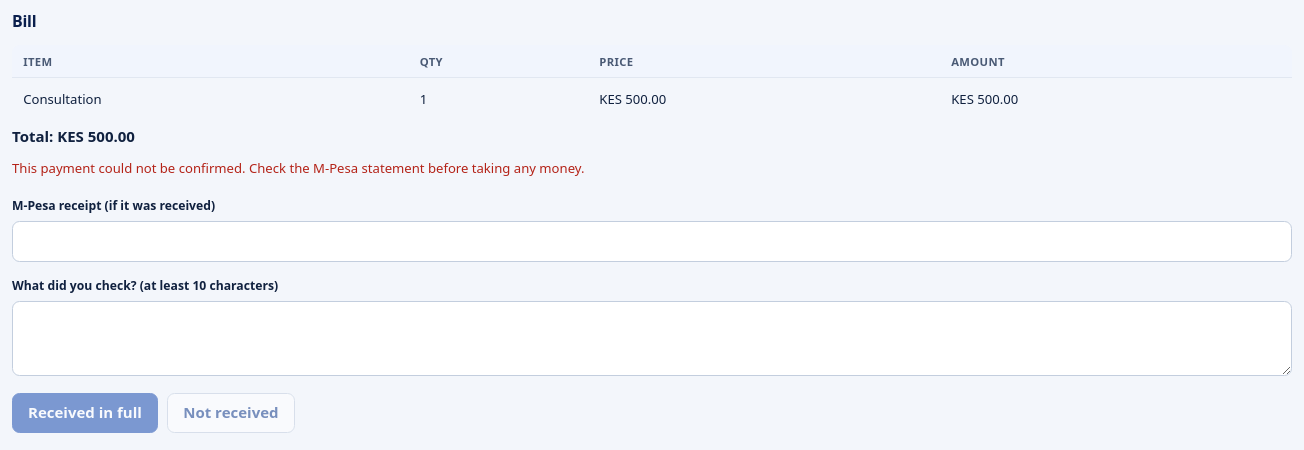
Test: M-Pesa on the bill › asks for a statement check when a payment is unconfirmed
Expected: the button "Received in full" is disabled, 12,393 -> 158,433
Type "SAB1CD2EF3" into the field labelled "M-Pesa receipt (if it was received)" at (652, 241), box 12,221 -> 1292,262
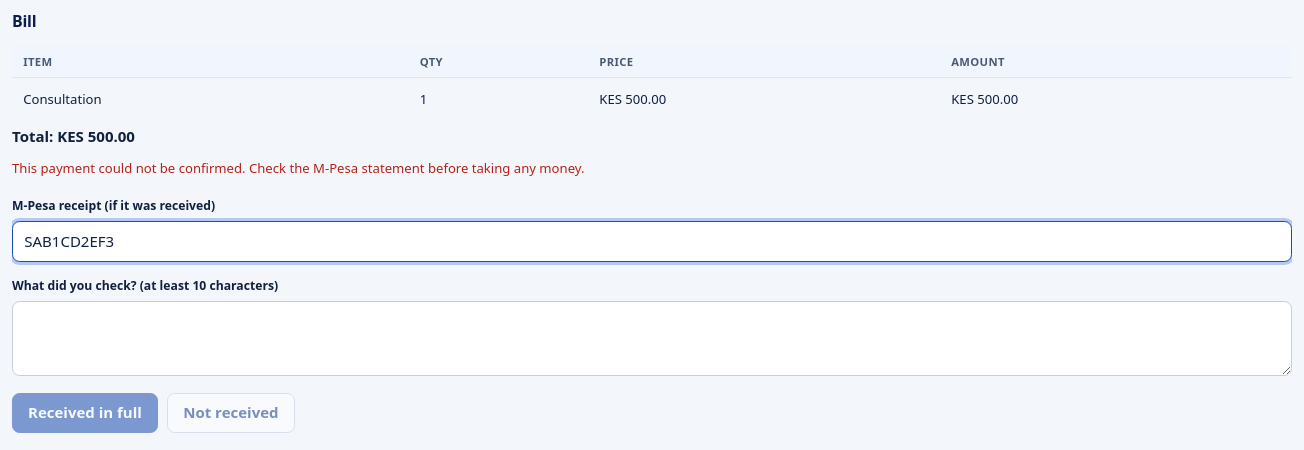
Type "Seen on the statement" into the text box labelled "What did you check? (at least 10 characters)" at (652, 339), box 12,301 -> 1292,376
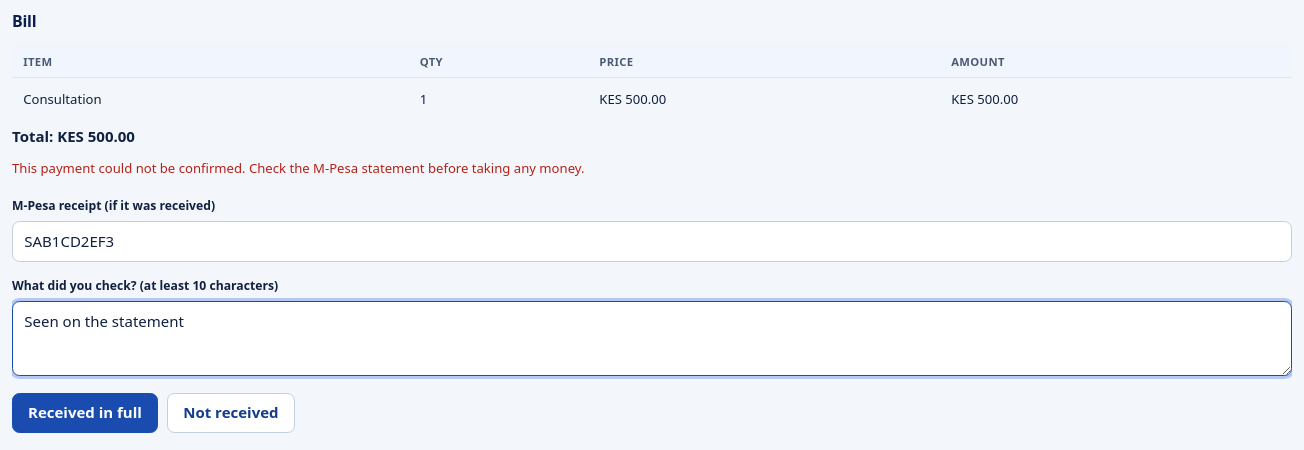
Click the button "Received in full" at (85, 413), box 12,393 -> 158,433
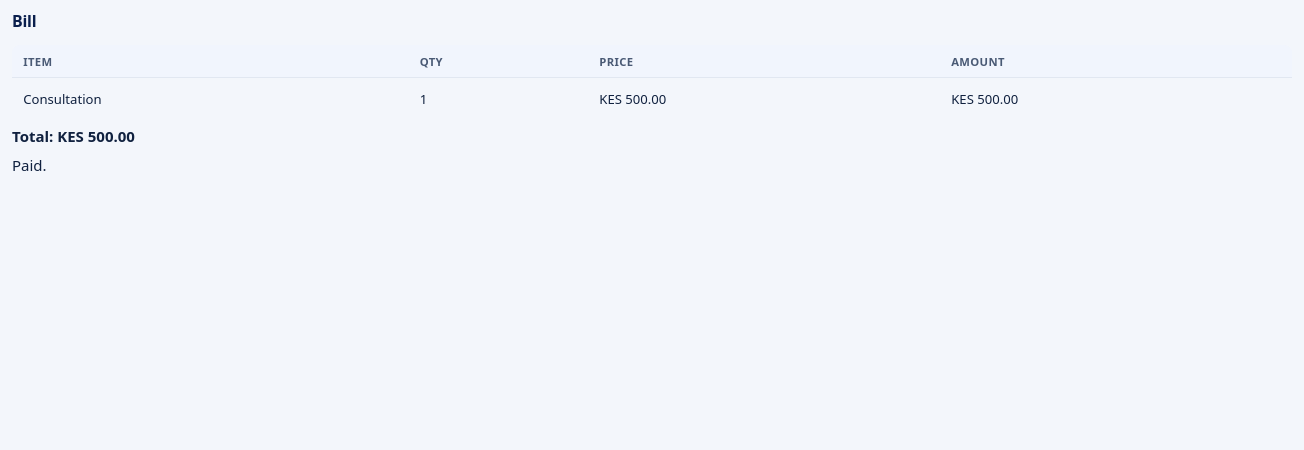
Expected: the text "Paid." is shown, 12,155 -> 47,175
